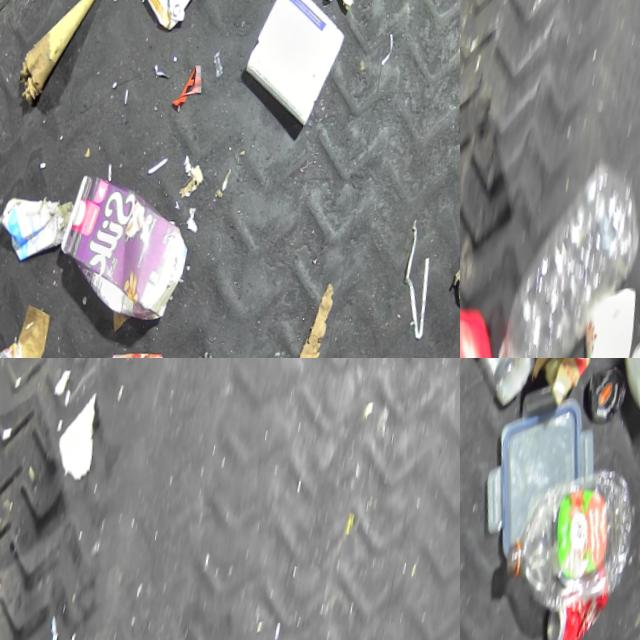can: (578, 279, 640, 358), (543, 576, 615, 640)
non_white_jug: (54, 171, 204, 325), (136, 0, 227, 34), (460, 302, 513, 358)
plastic_bottle: (495, 151, 640, 358), (499, 452, 640, 612), (460, 358, 546, 408)
